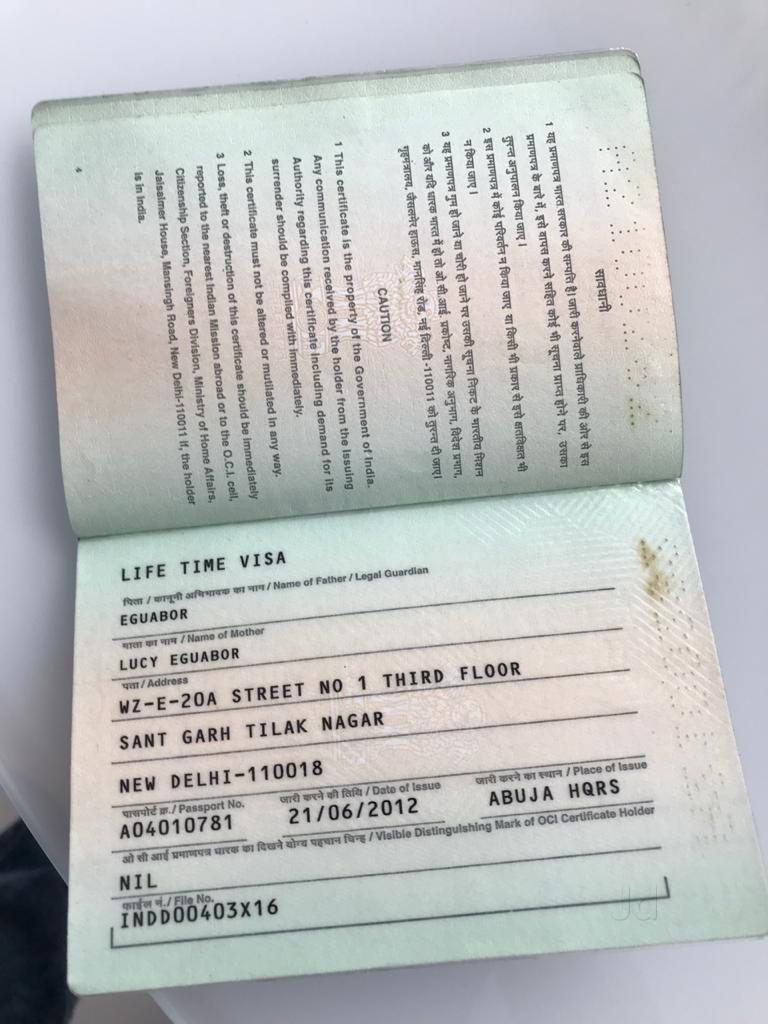File_no: (114, 891, 291, 938)
address: (110, 649, 534, 803)
father_name: (110, 600, 207, 637)
mother_name: (110, 646, 251, 674)
old_passport_details: (101, 759, 672, 856)
